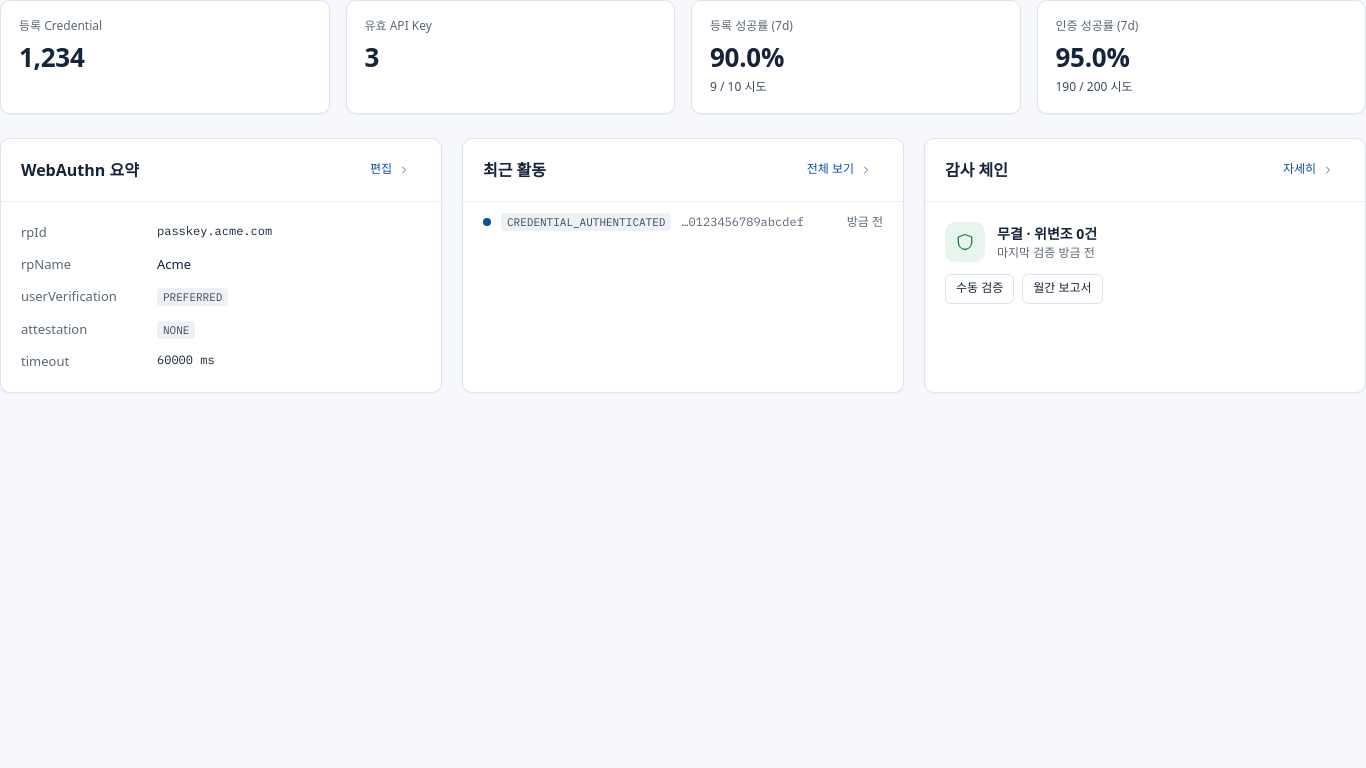
Test: TenantOverview › 수동 검증 실패도 버튼을 풀고 이전 결과를 유지
Expected: the text "무결 · 위변조 0건" is shown, x1=997 y1=223 x2=1097 y2=245
Click the button "수동 검증" at (980, 289), box x1=945 y1=274 x2=1014 y2=304
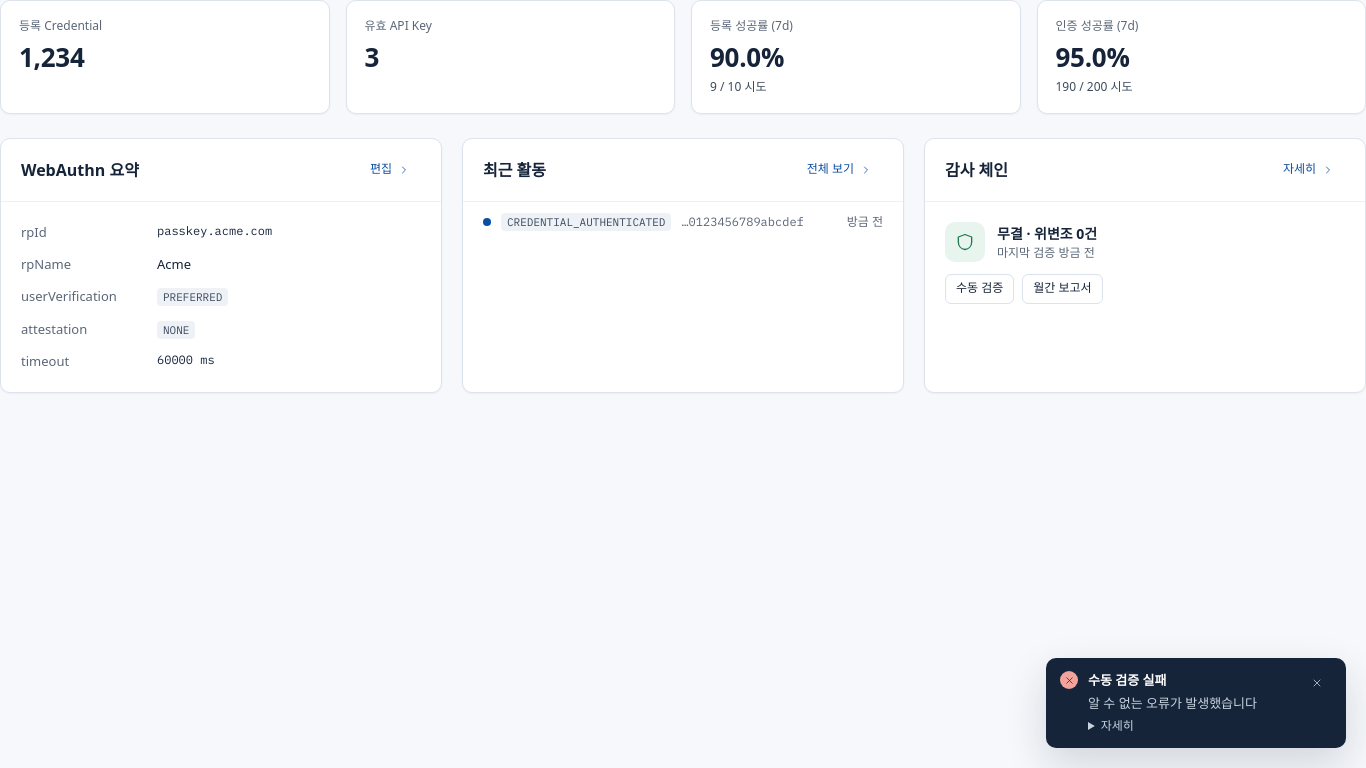
Expected: the text "무결 · 위변조 0건" is shown, x1=997 y1=223 x2=1097 y2=245
Expected: the text "수동 검증 실패" is shown, x1=1088 y1=671 x2=1166 y2=689
